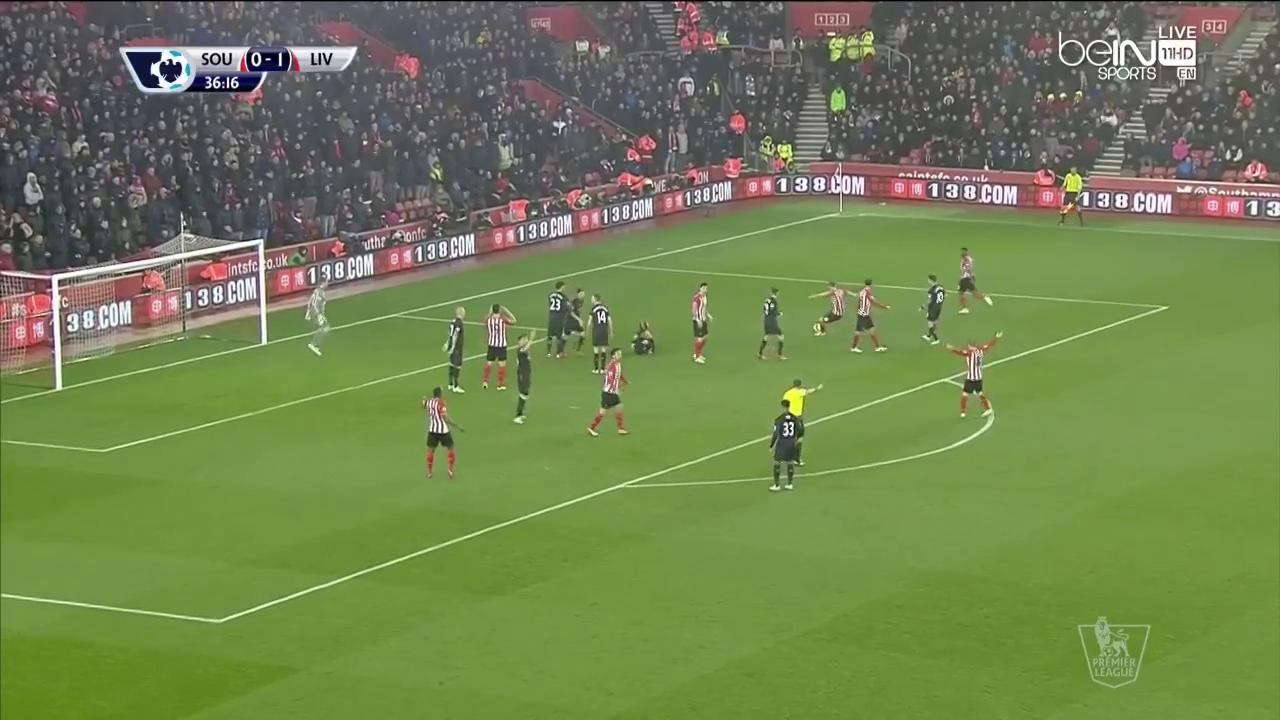football: (812, 322, 823, 332)
